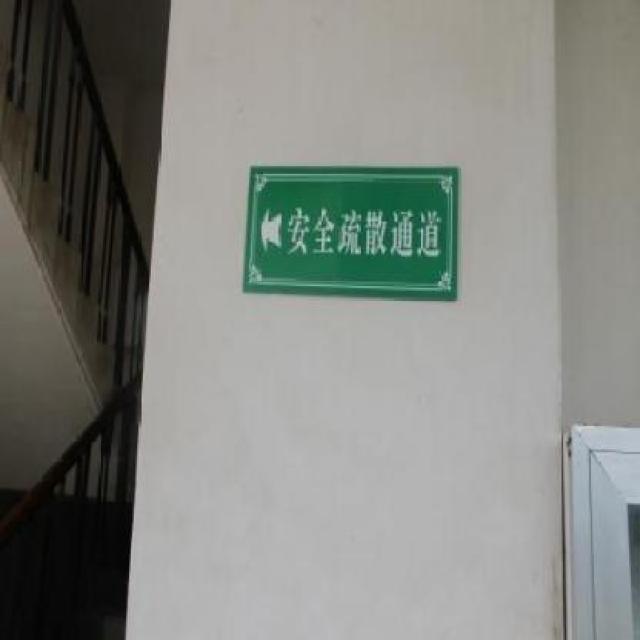exit_sign: (246, 157, 459, 302)
